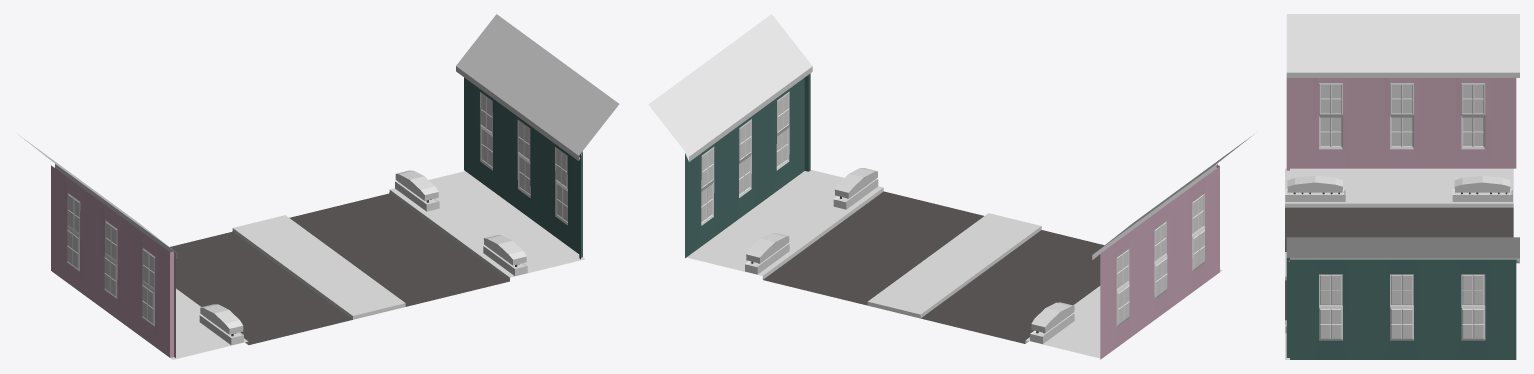
Rendered from RUATileDois.fbx.
3 renders of one model, left to right at view 1: azimuth 30°, elevation 25°; view 2: azimuth 150°, elevation 25°; view 3: azimuth 270°, elevation 25°, orthographic. The views are drawn at different scales.
Visible parts, largest first — view 1: RUATileDois; view 2: RUATileDois; view 3: RUATileDois.
Boxes of the visible parts, x1,y1,x2,y2 form: RUATileDois: [18, 14, 619, 359]; RUATileDois: [648, 14, 1251, 359]; RUATileDois: [1285, 14, 1519, 359].
Size of the model in its own units: 1389 by 413 by 617.
